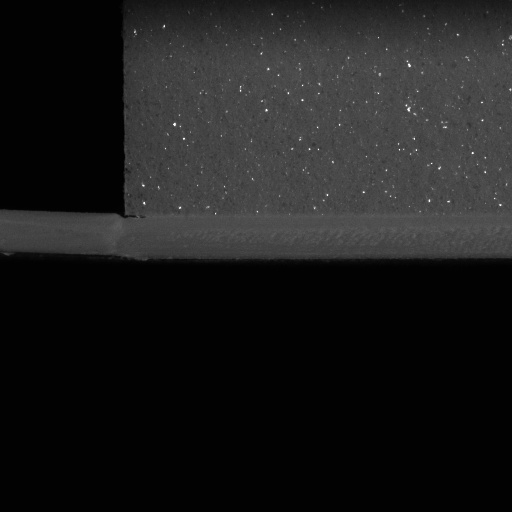changdai: (0, 209, 129, 259)
